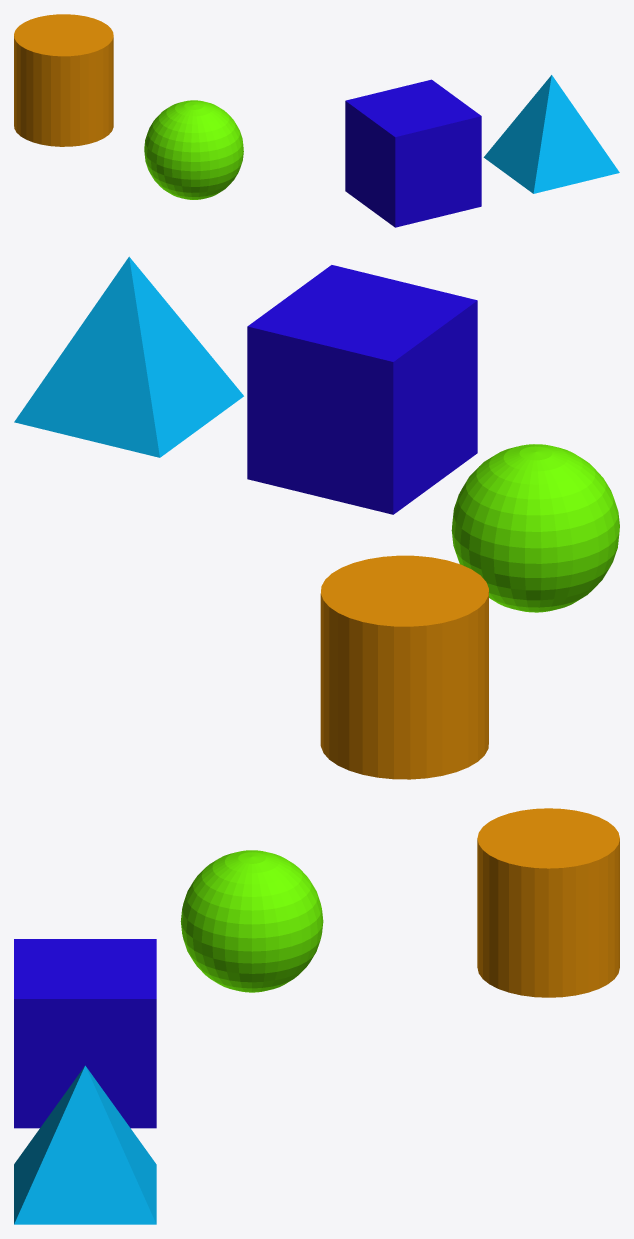
The picture shows the model from 3 angles, top to bottom: view 1: azimuth 30°, elevation 25°; view 2: azimuth 150°, elevation 25°; view 3: azimuth 270°, elevation 25°; orthographic projection. The views are drawn at different scales.
Visible parts, largest first — view 1: Cube, Objekt 3, Pyr, Objekt1; view 2: Cube, Objekt 3, Pyr, Objekt1; view 3: Objekt 3, Cube, Objekt1, Pyr.
Part boxes in pixels (x1,y1,x2,y2): Cube: [345, 79, 481, 227]; Objekt 3: [14, 14, 113, 146]; Pyr: [483, 75, 619, 193]; Objekt1: [144, 100, 243, 199]; Cube: [247, 265, 477, 514]; Objekt 3: [320, 555, 488, 779]; Pyr: [14, 256, 243, 457]; Objekt1: [451, 444, 619, 612]; Objekt 3: [477, 808, 619, 997]; Cube: [14, 939, 156, 1128]; Objekt1: [180, 850, 323, 992]; Pyr: [14, 1065, 156, 1224].
Size of the model in its own units: 9.53 by 2 by 8.5.
